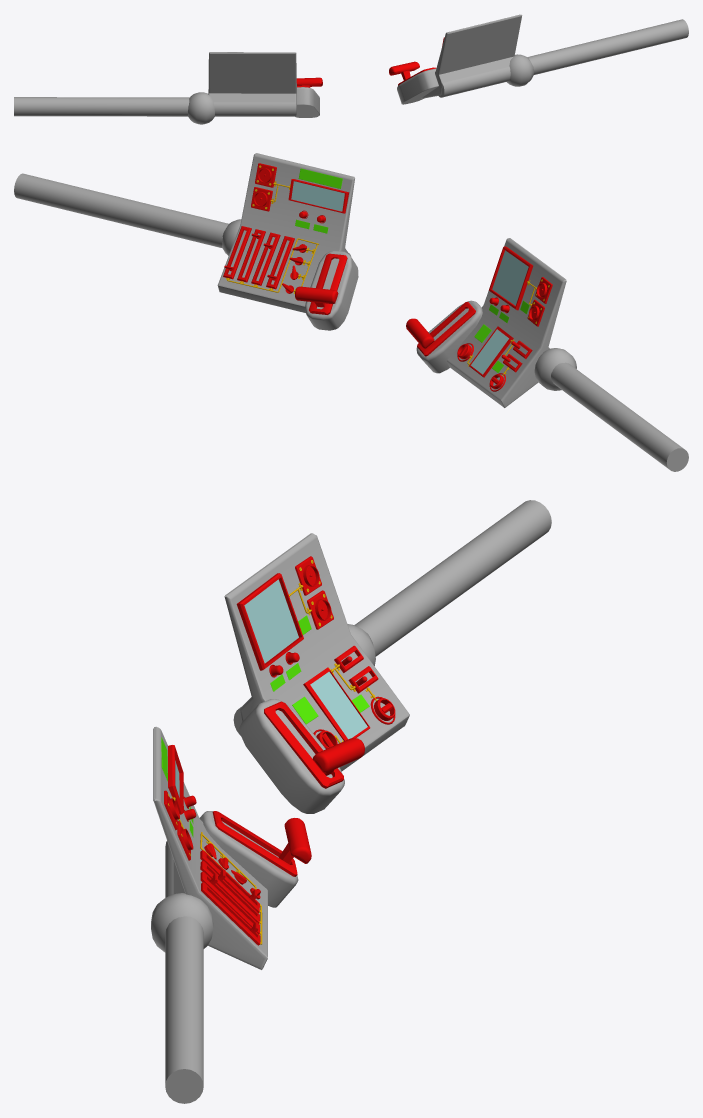
Rendered from ControlPanel3.0.fbx.
The picture shows the model from 3 angles, top to bottom: view 1: azimuth 30°, elevation 25°; view 2: azimuth 150°, elevation 25°; view 3: azimuth 270°, elevation 25°; orthographic projection. The views are drawn at different scales.
Visible parts, largest first — view 1: pCylinder12, pCube66, pCylinder10, pCube65, pCylinder13, pSphere2, pSphere1, pCylinder11, pasted__pCube78, pasted__pCube66; view 2: pCube65, pCube66, pCylinder10, pCylinder12, pCylinder13, pCylinder11, polySurface4, polySurface2, pSphere2, pasted__pCube65, pasted__pCube77, polySurface14 (+7 smaller); view 3: pCube66, pCylinder12, pCylinder10, pCube65, pCylinder11, polySurface4, pCylinder13, pSphere1, pasted__pCube65, polySurface14, pasted__pCube77, polySurface3 (+2 smaller).
Part boxes in pixels (box(x1,y1,x2,y2)): pCylinder12: box(14, 97, 296, 116); pCube66: box(208, 52, 296, 114); pCylinder10: box(438, 19, 688, 97); pCube65: box(421, 14, 522, 98); pCylinder13: box(397, 68, 438, 104); pSphere2: box(188, 92, 214, 124); pSphere1: box(507, 54, 534, 86); pCylinder11: box(295, 87, 319, 117); pasted__pCube78: box(389, 61, 419, 80); pasted__pCube66: box(296, 77, 322, 87); pCube65: box(217, 153, 354, 312); pCube66: box(447, 238, 566, 407); pCylinder10: box(14, 173, 350, 255); pCylinder12: box(551, 362, 688, 471); pCylinder13: box(305, 250, 358, 330); pCylinder11: box(416, 300, 482, 373); polySurface4: box(492, 250, 528, 305); polySurface2: box(291, 181, 344, 211); pSphere2: box(534, 348, 576, 390); pasted__pCube65: box(417, 302, 475, 356); pasted__pCube77: box(309, 253, 347, 314); polySurface14: box(471, 329, 508, 374); pCube66: box(224, 533, 409, 771); pCylinder12: box(233, 500, 551, 735); pCylinder10: box(165, 841, 203, 1103); pCube65: box(153, 726, 267, 969); pCylinder11: box(239, 699, 344, 813); polySurface4: box(244, 579, 298, 663); pCylinder13: box(199, 811, 298, 907); pSphere1: box(151, 893, 213, 952); pasted__pCube65: box(264, 701, 343, 788); polySurface14: box(310, 671, 367, 739); pasted__pCube77: box(212, 811, 297, 876); polySurface3: box(236, 573, 303, 670).
Size of the model in its own units: 767 by 114 by 227.
